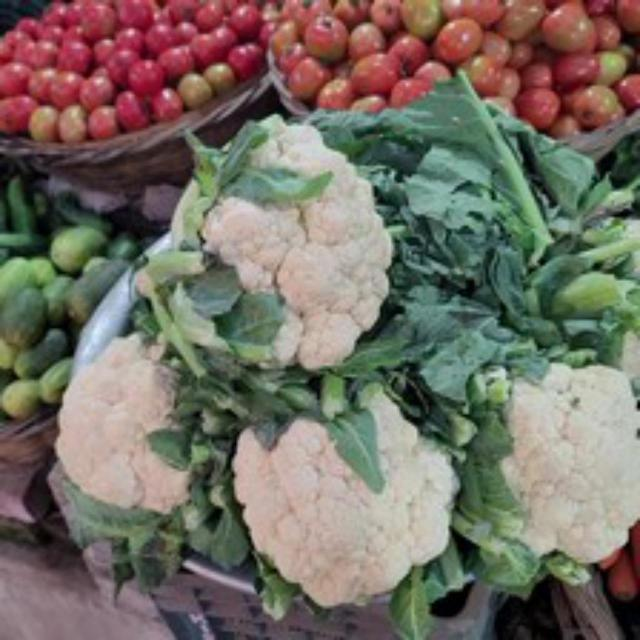cauliflower: (237, 374, 467, 600), (58, 322, 207, 534), (504, 352, 640, 564)
